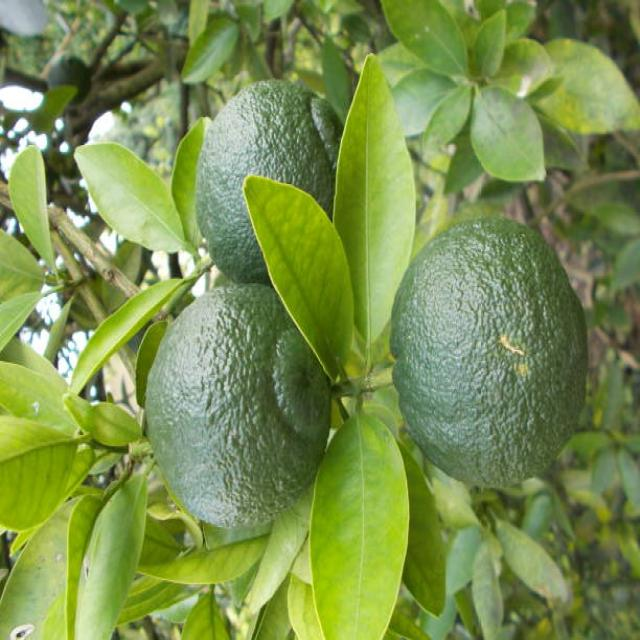Unripe: (390, 209, 586, 484), (142, 276, 335, 530)
